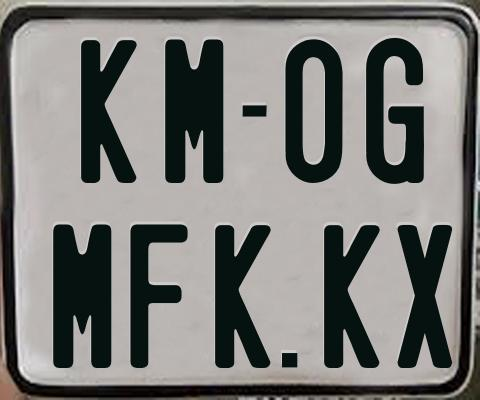0: (285, 38, 344, 184)
F: (129, 223, 191, 371)
G: (363, 35, 421, 182)
K: (321, 223, 383, 369), (80, 37, 140, 186), (212, 224, 272, 369)
M: (163, 37, 225, 182), (51, 222, 111, 370)
X: (396, 223, 455, 370)
